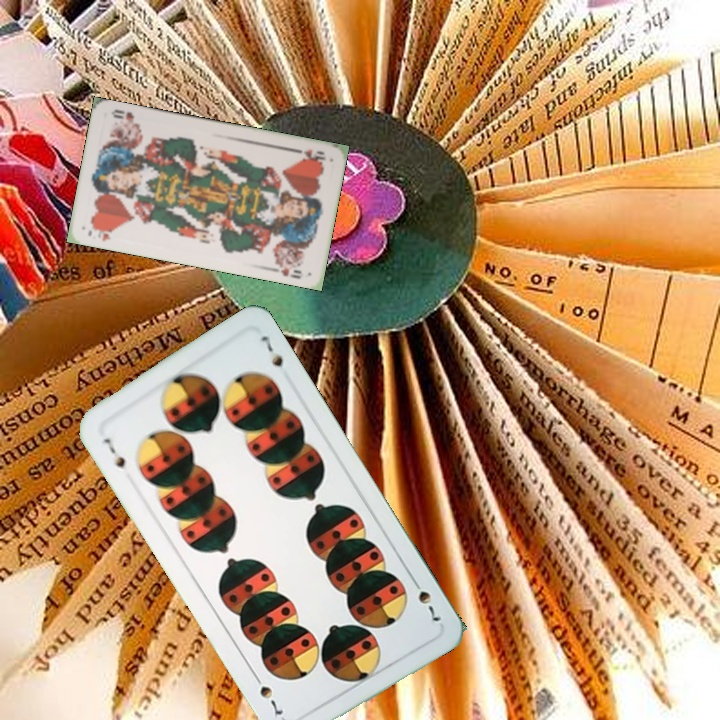HO: (290, 144, 328, 163), (84, 222, 117, 243)
S7: (407, 573, 444, 628), (99, 434, 128, 473)
